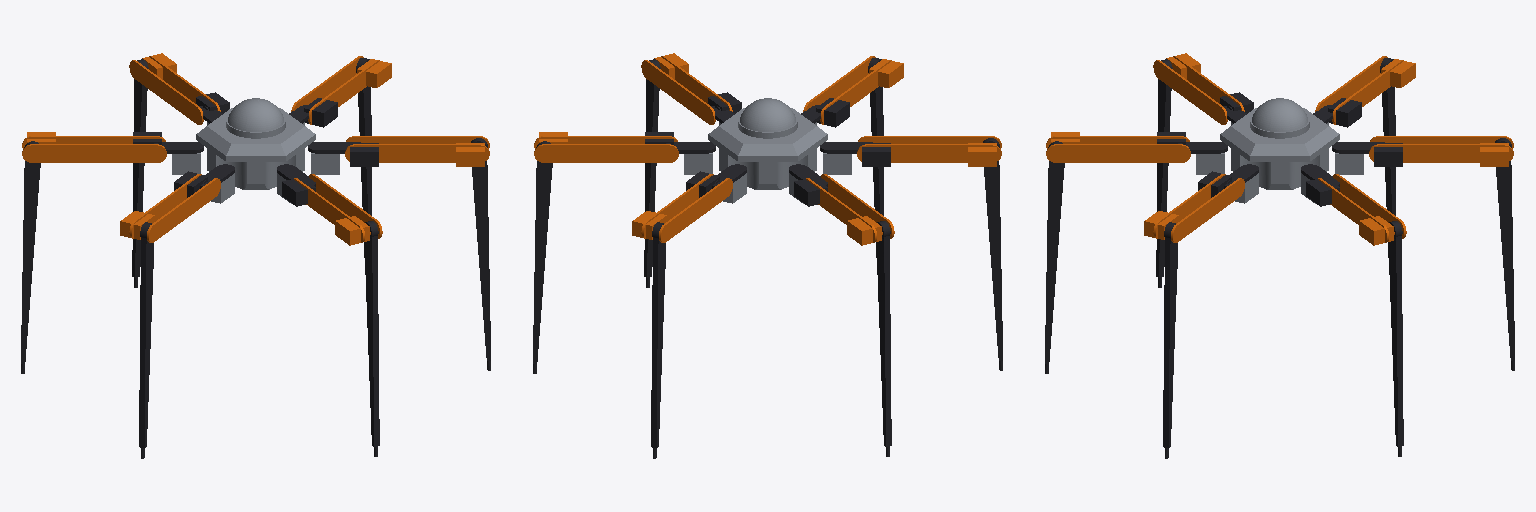
The robot description file, URDF, robot "spidertron_hexapod":
<?xml version="1.0"?>
<robot name="spidertron_hexapod">
  <material name="pod_grey"><color rgba="0.55 0.57 0.60 1"/></material>
  <material name="leg_orange"><color rgba="0.85 0.45 0.10 1"/></material>
  <material name="leg_dark"><color rgba="0.20 0.20 0.22 1"/></material>
  <link name="base_link">
    <inertial>
      <origin xyz="-0.000000 0.000000 -0.007135" rpy="0 0 0"/>
      <mass value="0.960000"/>
      <inertia ixx="2.896e-03" ixy="1.193e-18" ixz="7.725e-19" iyy="3.039e-03" iyz="4.608e-19" izz="5.162e-03"/>
    </inertial>
    <visual>
      <geometry><mesh filename="../meshes/spidertron/body.stl" scale="0.001 0.001 0.001"/></geometry>
      <material name="pod_grey"/>
    </visual>
    <collision>
      <origin xyz="0 0 0" rpy="0 0 0"/>
      <geometry><cylinder radius="0.0924" length="0.1000"/></geometry>
    </collision>
  </link>
  <link name="LF_coxa">
    <inertial>
      <origin xyz="0.060181 -0.013761 0.000861" rpy="0 0 0"/>
      <mass value="0.104500"/>
      <inertia ixx="2.225e-05" ixy="1.770e-05" ixz="2.716e-06" iyy="7.285e-05" iyz="-1.239e-06" izz="8.701e-05"/>
    </inertial>
    <visual>
      <geometry><mesh filename="../meshes/spidertron/coxa.stl" scale="0.001 0.001 0.001"/></geometry>
      <material name="leg_dark"/>
    </visual>
    <collision>
      <origin xyz="0.0360 0 -0.0165" rpy="0 0 0"/>
      <geometry><box size="0.0951 0.0267 0.0450"/></geometry>
    </collision>
  </link>
  <link name="LF_femur">
    <inertial>
      <origin xyz="0.140789 -0.010692 -0.000000" rpy="0 0 0"/>
      <mass value="0.134500"/>
      <inertia ixx="4.289e-05" ixy="5.280e-05" ixz="1.283e-21" iyy="4.853e-04" iyz="-2.380e-22" izz="5.119e-04"/>
    </inertial>
    <visual>
      <geometry><mesh filename="../meshes/spidertron/femur.stl" scale="0.001 0.001 0.001"/></geometry>
      <material name="leg_orange"/>
    </visual>
    <collision>
      <origin xyz="0.0950 0 0" rpy="0 1.570796 0"/>
      <geometry><cylinder radius="0.0174"
          length="0.2240"/></geometry>
    </collision>
  </link>
  <link name="LF_tibia">
    <inertial>
      <origin xyz="0.138075 0.006000 -0.000000" rpy="0 0 0"/>
      <mass value="0.085000"/>
      <inertia ixx="3.408e-06" ixy="1.958e-20" ixz="-2.218e-15" iyy="9.283e-04" iyz="7.193e-16" izz="9.263e-04"/>
    </inertial>
    <visual>
      <geometry><mesh filename="../meshes/spidertron/tibia.stl" scale="0.001 0.001 0.001"/></geometry>
      <material name="leg_dark"/>
    </visual>
    <collision>
      <origin xyz="0.1800 0.0060 0" rpy="0 1.570796 0"/>
      <geometry><cylinder radius="0.0090" length="0.3600"/></geometry>
    </collision>
    <collision>
      <origin xyz="0.3770 0.0060 0" rpy="0 0 0"/>
      <geometry><sphere radius="0.0040"/></geometry>
    </collision>
  </link>
  <joint name="LF_coxa_joint" type="revolute">
    <parent link="base_link"/>
    <child link="LF_coxa"/>
    <origin xyz="0.082272 0.047500 0.000000" rpy="0.000000 0.000000 0.523599"/>
    <axis xyz="0 0 1"/>
    <limit lower="-0.436332" upper="0.436332" effort="2.06" velocity="5.38"/>
    <dynamics damping="0.01" friction="0.0"/>
  </joint>
  <joint name="LF_femur_joint" type="revolute">
    <parent link="LF_coxa"/>
    <child link="LF_femur"/>
    <origin xyz="0.060000 0.000000 0.000000" rpy="0.000000 0.000000 0.000000"/>
    <axis xyz="0 1 0"/>
    <limit lower="-1.483530" upper="0.436332" effort="3.43" velocity="5.91"/>
    <dynamics damping="0.01" friction="0.0"/>
  </joint>
  <joint name="LF_tibia_joint" type="revolute">
    <parent link="LF_femur"/>
    <child link="LF_tibia"/>
    <origin xyz="0.190000 0.000000 0.000000" rpy="0.000000 0.000000 0.000000"/>
    <axis xyz="0 1 0"/>
    <limit lower="0.523599" upper="2.530727" effort="3.43" velocity="5.91"/>
    <dynamics damping="0.01" friction="0.0"/>
  </joint>
  <link name="LM_coxa">
    <inertial>
      <origin xyz="0.060181 -0.013761 0.000861" rpy="0 0 0"/>
      <mass value="0.104500"/>
      <inertia ixx="2.225e-05" ixy="1.770e-05" ixz="2.716e-06" iyy="7.285e-05" iyz="-1.239e-06" izz="8.701e-05"/>
    </inertial>
    <visual>
      <geometry><mesh filename="../meshes/spidertron/coxa.stl" scale="0.001 0.001 0.001"/></geometry>
      <material name="leg_dark"/>
    </visual>
    <collision>
      <origin xyz="0.0360 0 -0.0165" rpy="0 0 0"/>
      <geometry><box size="0.0951 0.0267 0.0450"/></geometry>
    </collision>
  </link>
  <link name="LM_femur">
    <inertial>
      <origin xyz="0.140789 -0.010692 -0.000000" rpy="0 0 0"/>
      <mass value="0.134500"/>
      <inertia ixx="4.289e-05" ixy="5.280e-05" ixz="1.283e-21" iyy="4.853e-04" iyz="-2.380e-22" izz="5.119e-04"/>
    </inertial>
    <visual>
      <geometry><mesh filename="../meshes/spidertron/femur.stl" scale="0.001 0.001 0.001"/></geometry>
      <material name="leg_orange"/>
    </visual>
    <collision>
      <origin xyz="0.0950 0 0" rpy="0 1.570796 0"/>
      <geometry><cylinder radius="0.0174"
          length="0.2240"/></geometry>
    </collision>
  </link>
  <link name="LM_tibia">
    <inertial>
      <origin xyz="0.138075 0.006000 -0.000000" rpy="0 0 0"/>
      <mass value="0.085000"/>
      <inertia ixx="3.408e-06" ixy="1.958e-20" ixz="-2.218e-15" iyy="9.283e-04" iyz="7.193e-16" izz="9.263e-04"/>
    </inertial>
    <visual>
      <geometry><mesh filename="../meshes/spidertron/tibia.stl" scale="0.001 0.001 0.001"/></geometry>
      <material name="leg_dark"/>
    </visual>
    <collision>
      <origin xyz="0.1800 0.0060 0" rpy="0 1.570796 0"/>
      <geometry><cylinder radius="0.0090" length="0.3600"/></geometry>
    </collision>
    <collision>
      <origin xyz="0.3770 0.0060 0" rpy="0 0 0"/>
      <geometry><sphere radius="0.0040"/></geometry>
    </collision>
  </link>
  <joint name="LM_coxa_joint" type="revolute">
    <parent link="base_link"/>
    <child link="LM_coxa"/>
    <origin xyz="0.000000 0.095000 0.000000" rpy="0.000000 0.000000 1.570796"/>
    <axis xyz="0 0 1"/>
    <limit lower="-0.436332" upper="0.436332" effort="2.06" velocity="5.38"/>
    <dynamics damping="0.01" friction="0.0"/>
  </joint>
  <joint name="LM_femur_joint" type="revolute">
    <parent link="LM_coxa"/>
    <child link="LM_femur"/>
    <origin xyz="0.060000 0.000000 0.000000" rpy="0.000000 0.000000 0.000000"/>
    <axis xyz="0 1 0"/>
    <limit lower="-1.483530" upper="0.436332" effort="3.43" velocity="5.91"/>
    <dynamics damping="0.01" friction="0.0"/>
  </joint>
  <joint name="LM_tibia_joint" type="revolute">
    <parent link="LM_femur"/>
    <child link="LM_tibia"/>
    <origin xyz="0.190000 0.000000 0.000000" rpy="0.000000 0.000000 0.000000"/>
    <axis xyz="0 1 0"/>
    <limit lower="0.523599" upper="2.530727" effort="3.43" velocity="5.91"/>
    <dynamics damping="0.01" friction="0.0"/>
  </joint>
  <link name="LR_coxa">
    <inertial>
      <origin xyz="0.060181 -0.013761 0.000861" rpy="0 0 0"/>
      <mass value="0.104500"/>
      <inertia ixx="2.225e-05" ixy="1.770e-05" ixz="2.716e-06" iyy="7.285e-05" iyz="-1.239e-06" izz="8.701e-05"/>
    </inertial>
    <visual>
      <geometry><mesh filename="../meshes/spidertron/coxa.stl" scale="0.001 0.001 0.001"/></geometry>
      <material name="leg_dark"/>
    </visual>
    <collision>
      <origin xyz="0.0360 0 -0.0165" rpy="0 0 0"/>
      <geometry><box size="0.0951 0.0267 0.0450"/></geometry>
    </collision>
  </link>
  <link name="LR_femur">
    <inertial>
      <origin xyz="0.140789 -0.010692 -0.000000" rpy="0 0 0"/>
      <mass value="0.134500"/>
      <inertia ixx="4.289e-05" ixy="5.280e-05" ixz="1.283e-21" iyy="4.853e-04" iyz="-2.380e-22" izz="5.119e-04"/>
    </inertial>
    <visual>
      <geometry><mesh filename="../meshes/spidertron/femur.stl" scale="0.001 0.001 0.001"/></geometry>
      <material name="leg_orange"/>
    </visual>
    <collision>
      <origin xyz="0.0950 0 0" rpy="0 1.570796 0"/>
      <geometry><cylinder radius="0.0174"
          length="0.2240"/></geometry>
    </collision>
  </link>
  <link name="LR_tibia">
    <inertial>
      <origin xyz="0.138075 0.006000 -0.000000" rpy="0 0 0"/>
      <mass value="0.085000"/>
      <inertia ixx="3.408e-06" ixy="1.958e-20" ixz="-2.218e-15" iyy="9.283e-04" iyz="7.193e-16" izz="9.263e-04"/>
    </inertial>
    <visual>
      <geometry><mesh filename="../meshes/spidertron/tibia.stl" scale="0.001 0.001 0.001"/></geometry>
      <material name="leg_dark"/>
    </visual>
    <collision>
      <origin xyz="0.1800 0.0060 0" rpy="0 1.570796 0"/>
      <geometry><cylinder radius="0.0090" length="0.3600"/></geometry>
    </collision>
    <collision>
      <origin xyz="0.3770 0.0060 0" rpy="0 0 0"/>
      <geometry><sphere radius="0.0040"/></geometry>
    </collision>
  </link>
  <joint name="LR_coxa_joint" type="revolute">
    <parent link="base_link"/>
    <child link="LR_coxa"/>
    <origin xyz="-0.082272 0.047500 0.000000" rpy="0.000000 0.000000 2.617994"/>
    <axis xyz="0 0 1"/>
    <limit lower="-0.436332" upper="0.436332" effort="2.06" velocity="5.38"/>
    <dynamics damping="0.01" friction="0.0"/>
  </joint>
  <joint name="LR_femur_joint" type="revolute">
    <parent link="LR_coxa"/>
    <child link="LR_femur"/>
    <origin xyz="0.060000 0.000000 0.000000" rpy="0.000000 0.000000 0.000000"/>
    <axis xyz="0 1 0"/>
    <limit lower="-1.483530" upper="0.436332" effort="3.43" velocity="5.91"/>
    <dynamics damping="0.01" friction="0.0"/>
  </joint>
  <joint name="LR_tibia_joint" type="revolute">
    <parent link="LR_femur"/>
    <child link="LR_tibia"/>
    <origin xyz="0.190000 0.000000 0.000000" rpy="0.000000 0.000000 0.000000"/>
    <axis xyz="0 1 0"/>
    <limit lower="0.523599" upper="2.530727" effort="3.43" velocity="5.91"/>
    <dynamics damping="0.01" friction="0.0"/>
  </joint>
  <link name="RR_coxa">
    <inertial>
      <origin xyz="0.060181 -0.013761 0.000861" rpy="0 0 0"/>
      <mass value="0.104500"/>
      <inertia ixx="2.225e-05" ixy="1.770e-05" ixz="2.716e-06" iyy="7.285e-05" iyz="-1.239e-06" izz="8.701e-05"/>
    </inertial>
    <visual>
      <geometry><mesh filename="../meshes/spidertron/coxa.stl" scale="0.001 0.001 0.001"/></geometry>
      <material name="leg_dark"/>
    </visual>
    <collision>
      <origin xyz="0.0360 0 -0.0165" rpy="0 0 0"/>
      <geometry><box size="0.0951 0.0267 0.0450"/></geometry>
    </collision>
  </link>
  <link name="RR_femur">
    <inertial>
      <origin xyz="0.140789 -0.010692 -0.000000" rpy="0 0 0"/>
      <mass value="0.134500"/>
      <inertia ixx="4.289e-05" ixy="5.280e-05" ixz="1.283e-21" iyy="4.853e-04" iyz="-2.380e-22" izz="5.119e-04"/>
    </inertial>
    <visual>
      <geometry><mesh filename="../meshes/spidertron/femur.stl" scale="0.001 0.001 0.001"/></geometry>
      <material name="leg_orange"/>
    </visual>
    <collision>
      <origin xyz="0.0950 0 0" rpy="0 1.570796 0"/>
      <geometry><cylinder radius="0.0174"
          length="0.2240"/></geometry>
    </collision>
  </link>
  <link name="RR_tibia">
    <inertial>
      <origin xyz="0.138075 0.006000 -0.000000" rpy="0 0 0"/>
      <mass value="0.085000"/>
      <inertia ixx="3.408e-06" ixy="1.958e-20" ixz="-2.218e-15" iyy="9.283e-04" iyz="7.193e-16" izz="9.263e-04"/>
    </inertial>
    <visual>
      <geometry><mesh filename="../meshes/spidertron/tibia.stl" scale="0.001 0.001 0.001"/></geometry>
      <material name="leg_dark"/>
    </visual>
    <collision>
      <origin xyz="0.1800 0.0060 0" rpy="0 1.570796 0"/>
      <geometry><cylinder radius="0.0090" length="0.3600"/></geometry>
    </collision>
    <collision>
      <origin xyz="0.3770 0.0060 0" rpy="0 0 0"/>
      <geometry><sphere radius="0.0040"/></geometry>
    </collision>
  </link>
  <joint name="RR_coxa_joint" type="revolute">
    <parent link="base_link"/>
    <child link="RR_coxa"/>
    <origin xyz="-0.082272 -0.047500 0.000000" rpy="0.000000 0.000000 3.665191"/>
    <axis xyz="0 0 1"/>
    <limit lower="-0.436332" upper="0.436332" effort="2.06" velocity="5.38"/>
    <dynamics damping="0.01" friction="0.0"/>
  </joint>
  <joint name="RR_femur_joint" type="revolute">
    <parent link="RR_coxa"/>
    <child link="RR_femur"/>
    <origin xyz="0.060000 0.000000 0.000000" rpy="0.000000 0.000000 0.000000"/>
    <axis xyz="0 1 0"/>
    <limit lower="-1.483530" upper="0.436332" effort="3.43" velocity="5.91"/>
    <dynamics damping="0.01" friction="0.0"/>
  </joint>
  <joint name="RR_tibia_joint" type="revolute">
    <parent link="RR_femur"/>
    <child link="RR_tibia"/>
    <origin xyz="0.190000 0.000000 0.000000" rpy="0.000000 0.000000 0.000000"/>
    <axis xyz="0 1 0"/>
    <limit lower="0.523599" upper="2.530727" effort="3.43" velocity="5.91"/>
    <dynamics damping="0.01" friction="0.0"/>
  </joint>
  <link name="RM_coxa">
    <inertial>
      <origin xyz="0.060181 -0.013761 0.000861" rpy="0 0 0"/>
      <mass value="0.104500"/>
      <inertia ixx="2.225e-05" ixy="1.770e-05" ixz="2.716e-06" iyy="7.285e-05" iyz="-1.239e-06" izz="8.701e-05"/>
    </inertial>
    <visual>
      <geometry><mesh filename="../meshes/spidertron/coxa.stl" scale="0.001 0.001 0.001"/></geometry>
      <material name="leg_dark"/>
    </visual>
    <collision>
      <origin xyz="0.0360 0 -0.0165" rpy="0 0 0"/>
      <geometry><box size="0.0951 0.0267 0.0450"/></geometry>
    </collision>
  </link>
  <link name="RM_femur">
    <inertial>
      <origin xyz="0.140789 -0.010692 -0.000000" rpy="0 0 0"/>
      <mass value="0.134500"/>
      <inertia ixx="4.289e-05" ixy="5.280e-05" ixz="1.283e-21" iyy="4.853e-04" iyz="-2.380e-22" izz="5.119e-04"/>
    </inertial>
    <visual>
      <geometry><mesh filename="../meshes/spidertron/femur.stl" scale="0.001 0.001 0.001"/></geometry>
      <material name="leg_orange"/>
    </visual>
    <collision>
      <origin xyz="0.0950 0 0" rpy="0 1.570796 0"/>
      <geometry><cylinder radius="0.0174"
          length="0.2240"/></geometry>
    </collision>
  </link>
  <link name="RM_tibia">
    <inertial>
      <origin xyz="0.138075 0.006000 -0.000000" rpy="0 0 0"/>
      <mass value="0.085000"/>
      <inertia ixx="3.408e-06" ixy="1.958e-20" ixz="-2.218e-15" iyy="9.283e-04" iyz="7.193e-16" izz="9.263e-04"/>
    </inertial>
    <visual>
      <geometry><mesh filename="../meshes/spidertron/tibia.stl" scale="0.001 0.001 0.001"/></geometry>
      <material name="leg_dark"/>
    </visual>
    <collision>
      <origin xyz="0.1800 0.0060 0" rpy="0 1.570796 0"/>
      <geometry><cylinder radius="0.0090" length="0.3600"/></geometry>
    </collision>
    <collision>
      <origin xyz="0.3770 0.0060 0" rpy="0 0 0"/>
      <geometry><sphere radius="0.0040"/></geometry>
    </collision>
  </link>
  <joint name="RM_coxa_joint" type="revolute">
    <parent link="base_link"/>
    <child link="RM_coxa"/>
    <origin xyz="-0.000000 -0.095000 0.000000" rpy="0.000000 0.000000 4.712389"/>
    <axis xyz="0 0 1"/>
    <limit lower="-0.436332" upper="0.436332" effort="2.06" velocity="5.38"/>
    <dynamics damping="0.01" friction="0.0"/>
  </joint>
  <joint name="RM_femur_joint" type="revolute">
    <parent link="RM_coxa"/>
    <child link="RM_femur"/>
    <origin xyz="0.060000 0.000000 0.000000" rpy="0.000000 0.000000 0.000000"/>
    <axis xyz="0 1 0"/>
    <limit lower="-1.483530" upper="0.436332" effort="3.43" velocity="5.91"/>
    <dynamics damping="0.01" friction="0.0"/>
  </joint>
  <joint name="RM_tibia_joint" type="revolute">
    <parent link="RM_femur"/>
    <child link="RM_tibia"/>
    <origin xyz="0.190000 0.000000 0.000000" rpy="0.000000 0.000000 0.000000"/>
    <axis xyz="0 1 0"/>
    <limit lower="0.523599" upper="2.530727" effort="3.43" velocity="5.91"/>
    <dynamics damping="0.01" friction="0.0"/>
  </joint>
  <link name="RF_coxa">
    <inertial>
      <origin xyz="0.060181 -0.013761 0.000861" rpy="0 0 0"/>
      <mass value="0.104500"/>
      <inertia ixx="2.225e-05" ixy="1.770e-05" ixz="2.716e-06" iyy="7.285e-05" iyz="-1.239e-06" izz="8.701e-05"/>
    </inertial>
    <visual>
      <geometry><mesh filename="../meshes/spidertron/coxa.stl" scale="0.001 0.001 0.001"/></geometry>
      <material name="leg_dark"/>
    </visual>
    <collision>
      <origin xyz="0.0360 0 -0.0165" rpy="0 0 0"/>
      <geometry><box size="0.0951 0.0267 0.0450"/></geometry>
    </collision>
  </link>
  <link name="RF_femur">
    <inertial>
      <origin xyz="0.140789 -0.010692 -0.000000" rpy="0 0 0"/>
      <mass value="0.134500"/>
      <inertia ixx="4.289e-05" ixy="5.280e-05" ixz="1.283e-21" iyy="4.853e-04" iyz="-2.380e-22" izz="5.119e-04"/>
    </inertial>
    <visual>
      <geometry><mesh filename="../meshes/spidertron/femur.stl" scale="0.001 0.001 0.001"/></geometry>
      <material name="leg_orange"/>
    </visual>
    <collision>
      <origin xyz="0.0950 0 0" rpy="0 1.570796 0"/>
      <geometry><cylinder radius="0.0174"
          length="0.2240"/></geometry>
    </collision>
  </link>
  <link name="RF_tibia">
    <inertial>
      <origin xyz="0.138075 0.006000 -0.000000" rpy="0 0 0"/>
      <mass value="0.085000"/>
      <inertia ixx="3.408e-06" ixy="1.958e-20" ixz="-2.218e-15" iyy="9.283e-04" iyz="7.193e-16" izz="9.263e-04"/>
    </inertial>
    <visual>
      <geometry><mesh filename="../meshes/spidertron/tibia.stl" scale="0.001 0.001 0.001"/></geometry>
      <material name="leg_dark"/>
    </visual>
    <collision>
      <origin xyz="0.1800 0.0060 0" rpy="0 1.570796 0"/>
      <geometry><cylinder radius="0.0090" length="0.3600"/></geometry>
    </collision>
    <collision>
      <origin xyz="0.3770 0.0060 0" rpy="0 0 0"/>
      <geometry><sphere radius="0.0040"/></geometry>
    </collision>
  </link>
  <joint name="RF_coxa_joint" type="revolute">
    <parent link="base_link"/>
    <child link="RF_coxa"/>
    <origin xyz="0.082272 -0.047500 0.000000" rpy="0.000000 0.000000 5.759587"/>
    <axis xyz="0 0 1"/>
    <limit lower="-0.436332" upper="0.436332" effort="2.06" velocity="5.38"/>
    <dynamics damping="0.01" friction="0.0"/>
  </joint>
  <joint name="RF_femur_joint" type="revolute">
    <parent link="RF_coxa"/>
    <child link="RF_femur"/>
    <origin xyz="0.060000 0.000000 0.000000" rpy="0.000000 0.000000 0.000000"/>
    <axis xyz="0 1 0"/>
    <limit lower="-1.483530" upper="0.436332" effort="3.43" velocity="5.91"/>
    <dynamics damping="0.01" friction="0.0"/>
  </joint>
  <joint name="RF_tibia_joint" type="revolute">
    <parent link="RF_femur"/>
    <child link="RF_tibia"/>
    <origin xyz="0.190000 0.000000 0.000000" rpy="0.000000 0.000000 0.000000"/>
    <axis xyz="0 1 0"/>
    <limit lower="0.523599" upper="2.530727" effort="3.43" velocity="5.91"/>
    <dynamics damping="0.01" friction="0.0"/>
  </joint>
</robot>

--- Render facts (derived) ---
Views: 3 orthographic renders of the robot side by side, from view 1: azimuth 30°, elevation 25°; view 2: azimuth 150°, elevation 25°; view 3: azimuth 270°, elevation 25°.
Robot: spidertron_hexapod — 19 links, 18 joints (18 revolute); root link base_link; default pose: joints at zero except 6 at the middle of their limits (LF_tibia_joint = 1.53, LM_tibia_joint = 1.53, LR_tibia_joint = 1.53, RR_tibia_joint = 1.53, RM_tibia_joint = 1.53, RF_tibia_joint = 1.53).
Visible links, largest first — view 1: base_link, LR_femur, RF_femur, RR_femur, LM_femur, RM_femur, RM_tibia, RR_tibia, LF_femur, LR_tibia, RF_tibia, LM_tibia (+7 smaller); view 2: base_link, LF_femur, RR_femur, LM_femur, RF_femur, LR_femur, LR_tibia, LM_tibia, RM_femur, LF_tibia, RR_tibia, RF_tibia (+7 smaller); view 3: base_link, RM_femur, LM_femur, RF_femur, RR_femur, LF_femur, LF_tibia, RF_tibia, LR_femur, RM_tibia, LM_tibia, RR_tibia (+7 smaller).
Link boxes in pixels (left/top/right/bottom): base_link: left=172, top=98, right=339, bottom=203; LR_femur: left=22, top=132, right=166, bottom=162; RF_femur: left=345, top=136, right=489, bottom=166; RR_femur: left=120, top=174, right=220, bottom=242; LM_femur: left=129, top=53, right=220, bottom=124; RM_femur: left=294, top=174, right=382, bottom=245; RM_tibia: left=364, top=221, right=379, bottom=456; RR_tibia: left=139, top=222, right=153, bottom=458; LF_femur: left=291, top=56, right=391, bottom=124; LR_tibia: left=21, top=141, right=40, bottom=373; RF_tibia: left=471, top=138, right=490, bottom=370; LM_tibia: left=132, top=59, right=148, bottom=287; base_link: left=684, top=98, right=851, bottom=203; LF_femur: left=534, top=132, right=678, bottom=162; RR_femur: left=857, top=136, right=1001, bottom=166; LM_femur: left=632, top=174, right=732, bottom=242; RF_femur: left=641, top=53, right=732, bottom=124; LR_femur: left=806, top=174, right=894, bottom=245; LR_tibia: left=876, top=221, right=891, bottom=456; LM_tibia: left=651, top=222, right=665, bottom=458; RM_femur: left=803, top=56, right=903, bottom=124; LF_tibia: left=533, top=141, right=552, bottom=373; RR_tibia: left=983, top=138, right=1002, bottom=370; RF_tibia: left=644, top=59, right=660, bottom=287; base_link: left=1196, top=98, right=1363, bottom=203; RM_femur: left=1046, top=132, right=1190, bottom=162; LM_femur: left=1369, top=136, right=1513, bottom=166; RF_femur: left=1144, top=174, right=1244, bottom=242; RR_femur: left=1153, top=53, right=1244, bottom=124; LF_femur: left=1318, top=174, right=1406, bottom=245; LF_tibia: left=1388, top=221, right=1403, bottom=456; RF_tibia: left=1163, top=222, right=1177, bottom=458; LR_femur: left=1315, top=56, right=1415, bottom=124; RM_tibia: left=1045, top=141, right=1064, bottom=373; LM_tibia: left=1495, top=138, right=1514, bottom=370; RR_tibia: left=1156, top=59, right=1172, bottom=287.
Size in the robot's own frame: 0.6525 by 0.7295 by 0.4628 metres.
Meshes: 4 distinct files referenced, 19 mesh visuals loaded (4 binary STL).
